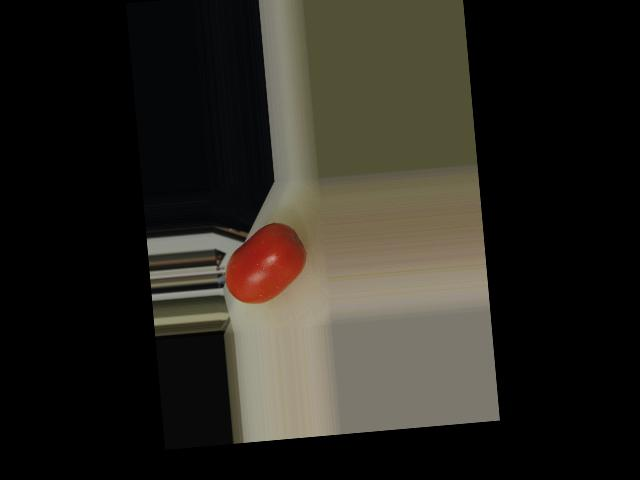tomato: (220, 220, 309, 306)
